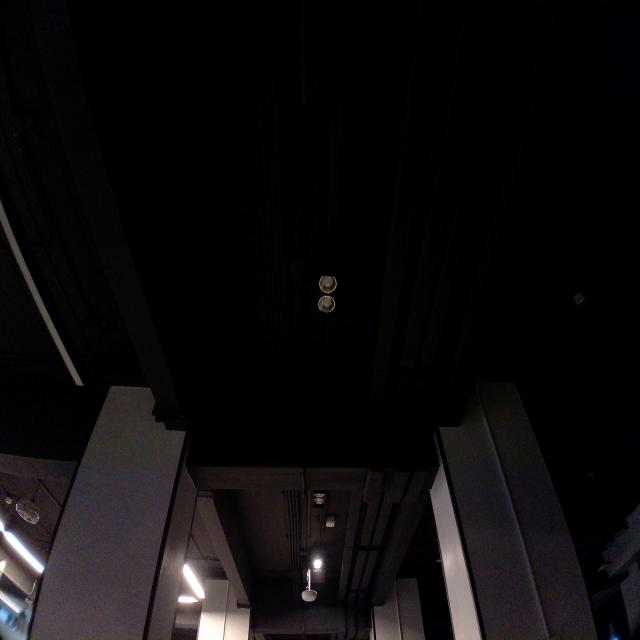lamp1_off: (306, 257, 353, 335)
